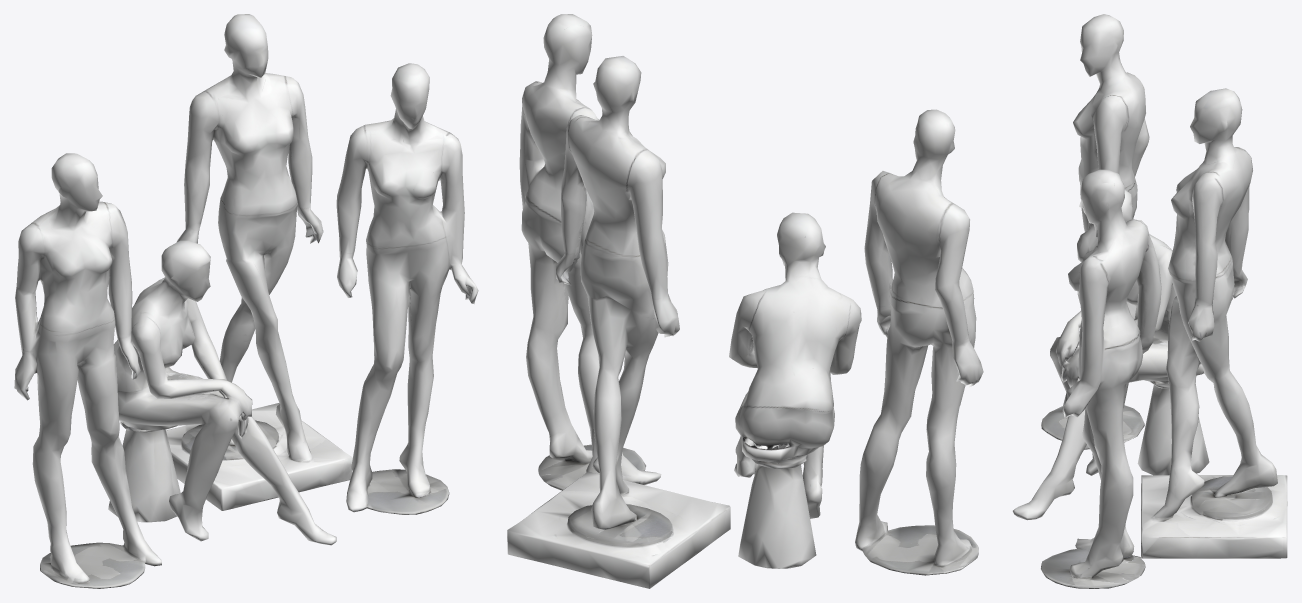
Rendered from Meshy_AI_Mannequin_Quartet_0102104938_texture.fbx.
The picture shows the model from 3 angles, left to right: view 1: azimuth 30°, elevation 25°; view 2: azimuth 150°, elevation 25°; view 3: azimuth 270°, elevation 25°; orthographic projection. The views are drawn at different scales.
Parts seen in each view (by area): view 1: Mesh_0; view 2: Mesh_0; view 3: Mesh_0.
Boxes of the visible parts, left/top/right/bottom form: Mesh_0: left=14, top=14, right=478, bottom=588; Mesh_0: left=507, top=14, right=983, bottom=588; Mesh_0: left=1012, top=14, right=1287, bottom=588.
Bounding box in the file's own units: 192 × 189 × 108.
1 material, 1 textured.
